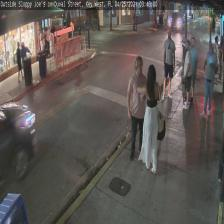person: (136, 64, 162, 173)
